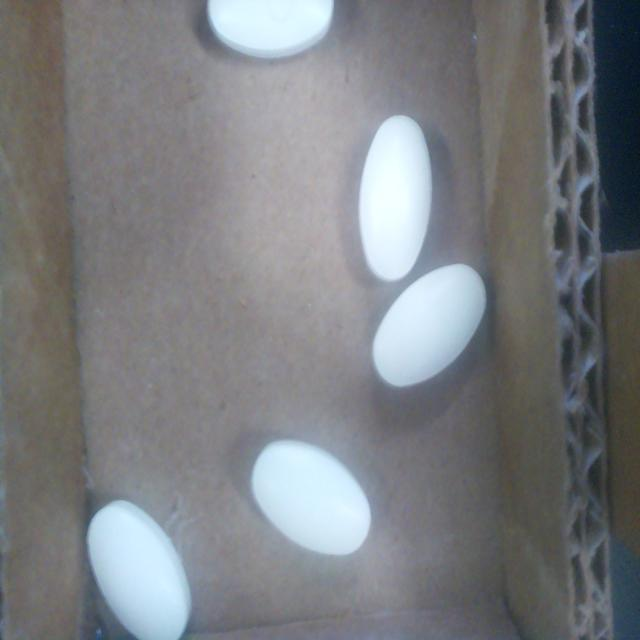pill: (88, 500, 191, 640), (372, 264, 486, 387), (250, 440, 371, 555), (359, 115, 432, 281), (207, 0, 334, 59)
